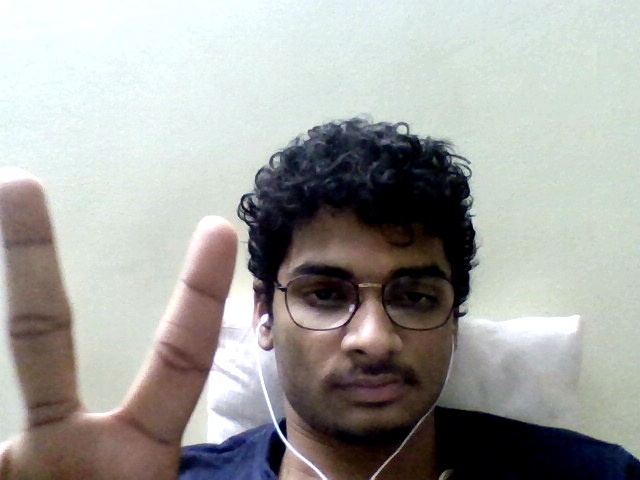ThankYou: (1, 169, 243, 480)
